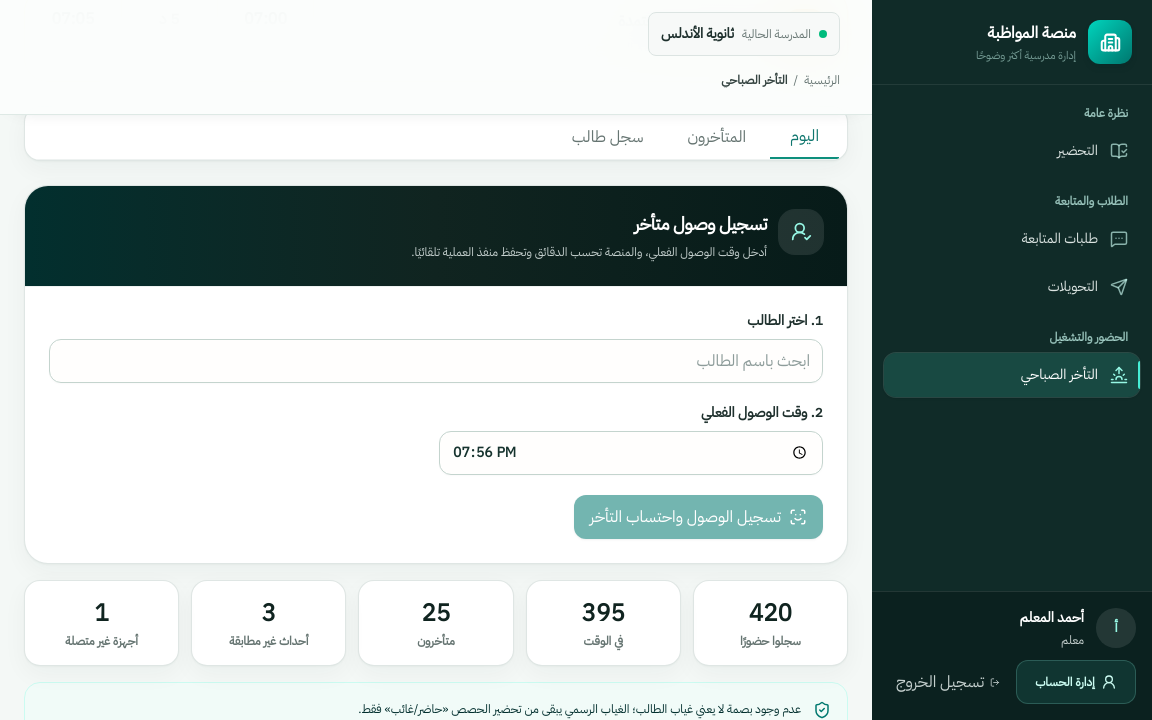
it: morning attendance UI (Phase 8.5) › delegated teacher gets the morning screen without losing teacher tools
(page scrolled)
Expected: the link "التأخر الصباحي" is shown, [884,353,1140,397]
Expected: the link "التحضير" is shown, [1057,140,1128,161]
Type "محمد" into the field named "بحث عن طالب". click: (436, 360)
box: [49,338,823,382]
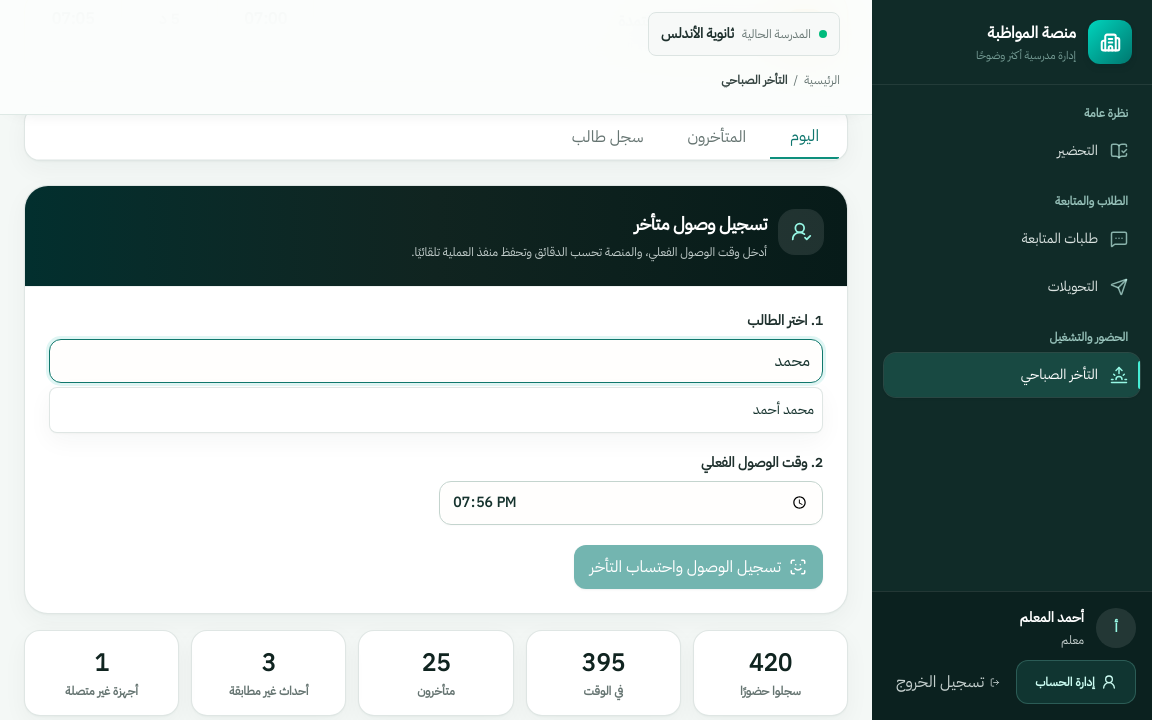
Expected: the button with test id "pick-student-5" reads "محمد أحمد", [50,388,822,432]
